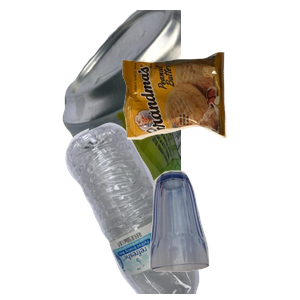glass: (147, 168, 300, 300)
metal: (60, 10, 300, 190)
plastic: (63, 120, 263, 300)
trash: (120, 50, 300, 182)
